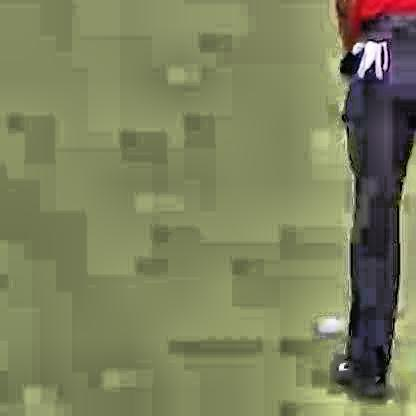golfball: (314, 314, 337, 334)
